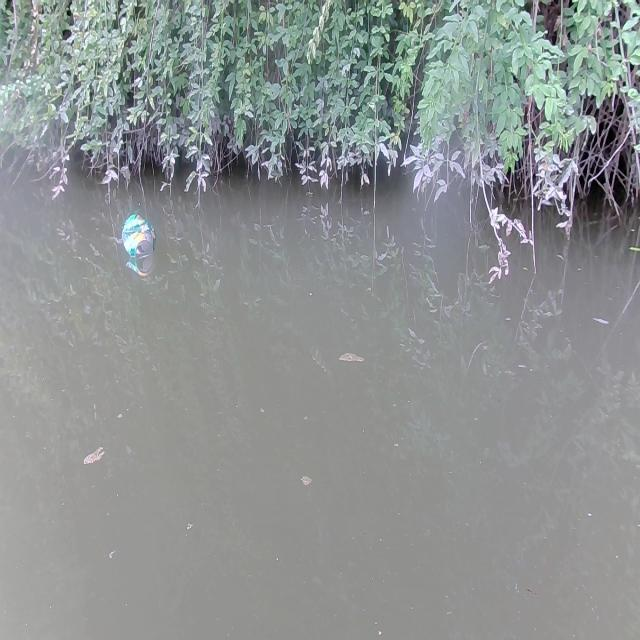bottle: (117, 211, 156, 269)
